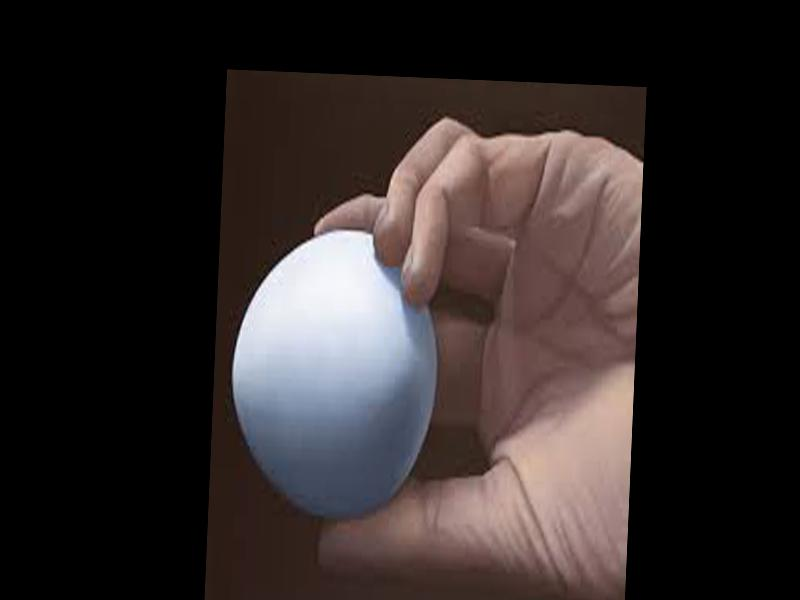Eggs: (224, 222, 440, 519)
